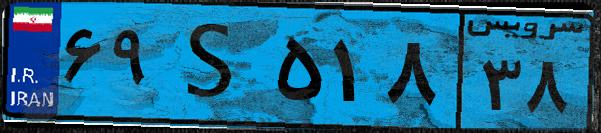1: (330, 28, 385, 110)
3: (475, 38, 525, 113)
5: (270, 28, 330, 110)
6: (57, 26, 110, 100)
8: (385, 28, 445, 110), (525, 38, 570, 115)
9: (110, 28, 158, 98)
S: (158, 12, 270, 120)
